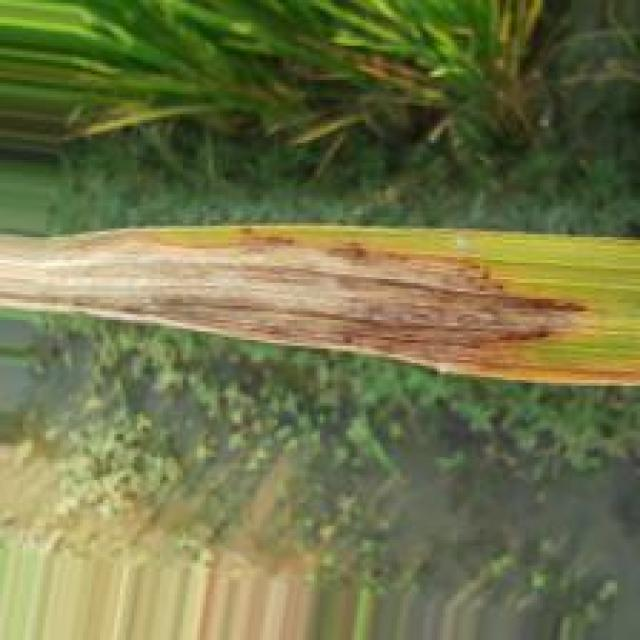Rice False Smut: (1, 227, 638, 384)
